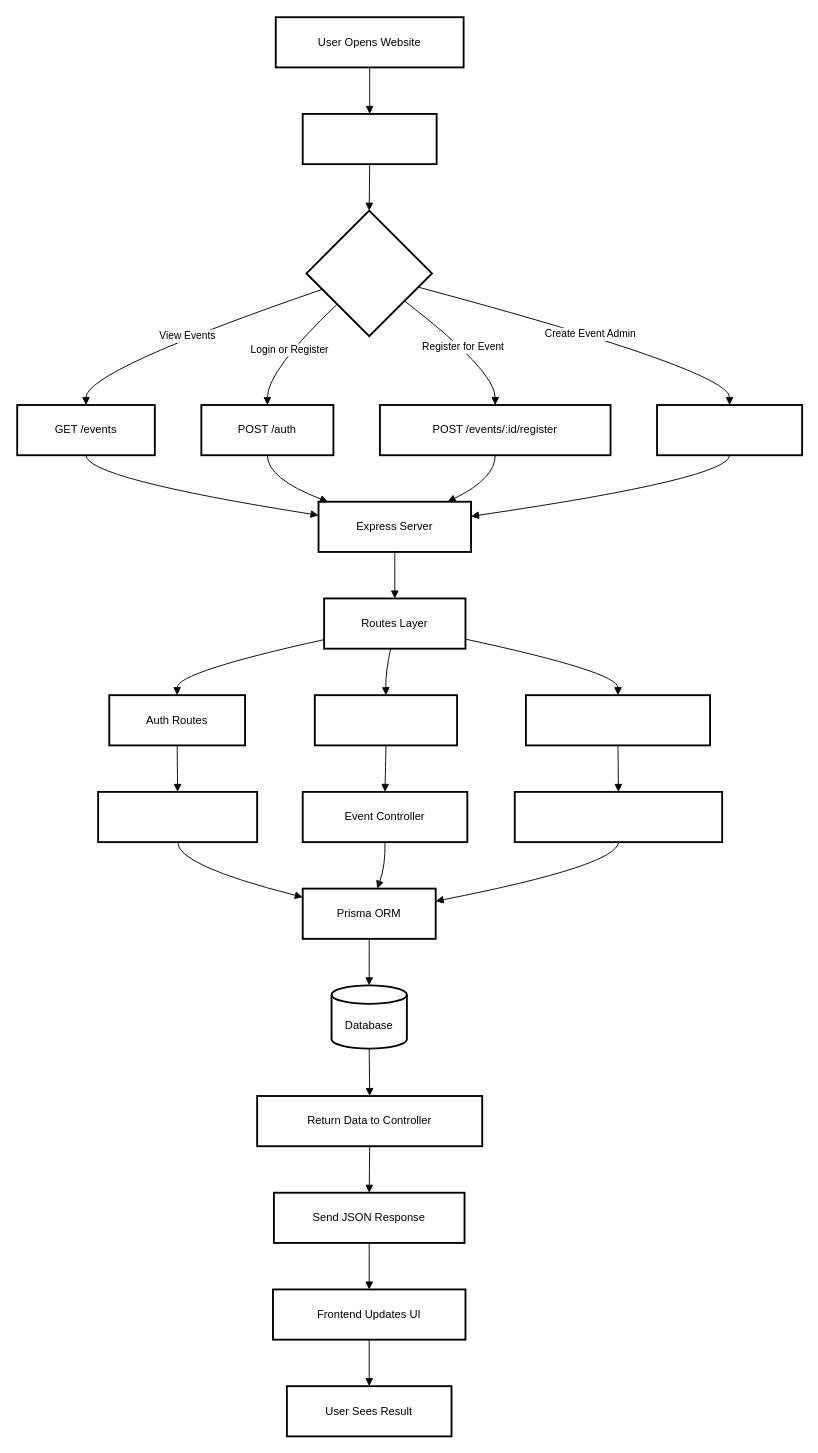
Image size: 818x1453. Some labels were removed from this diagram. The centre of each missing label's shape, as x and y in pixels:
Auth Controller: [177,816]
Event Routes: [385,720]
Frontend UI: [369,139]
POST /events: [729,430]
Registration Controller: [618,816]
Registration Routes: [618,720]
User Action: [368,273]
